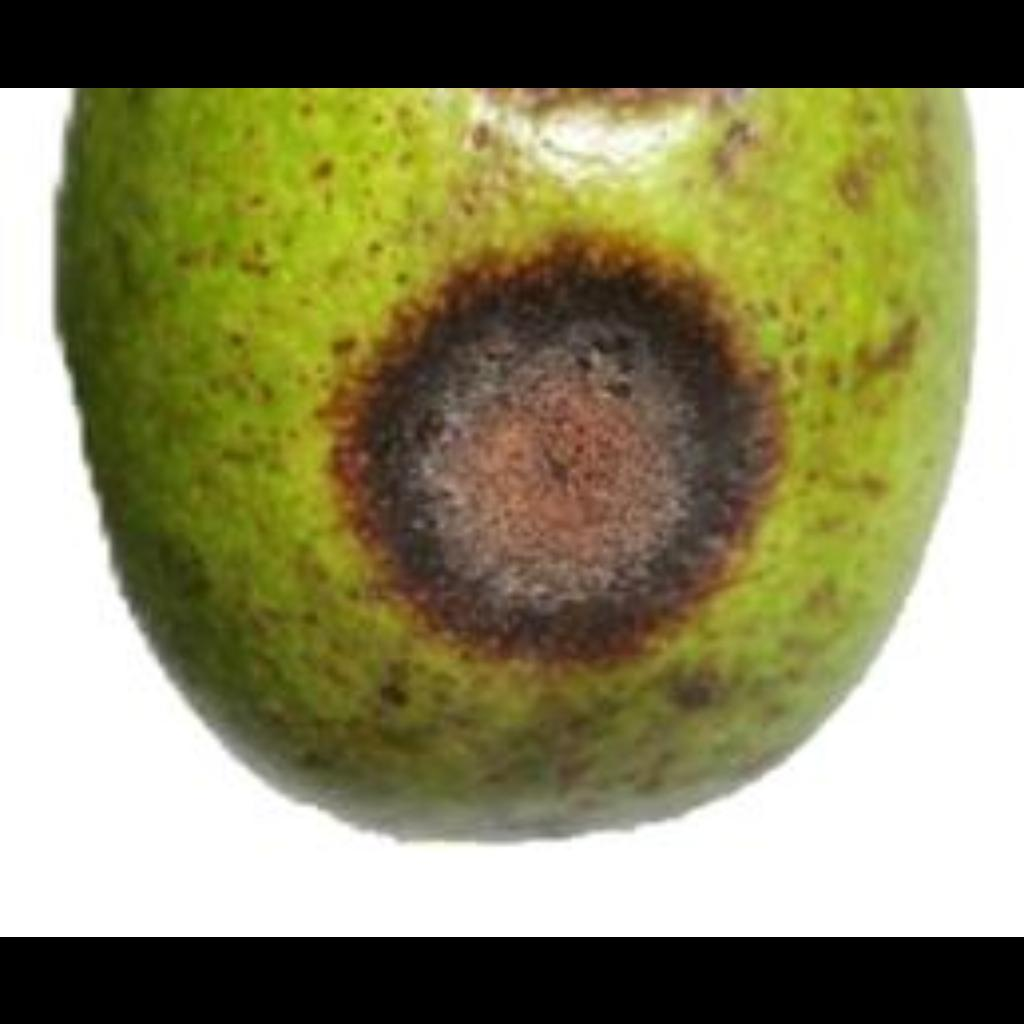antracnosis_fruto: (109, 148, 887, 727)
